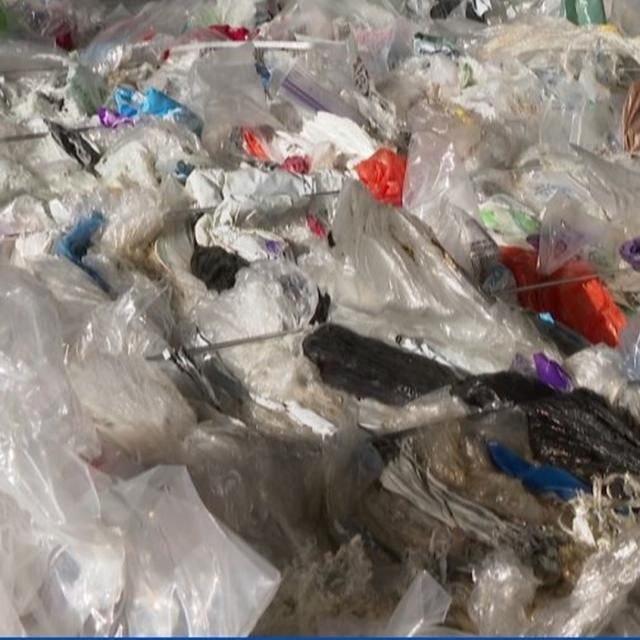Single-layer Plastic: (0, 268, 280, 636), (26, 255, 328, 564), (330, 180, 561, 374), (465, 85, 640, 273), (194, 260, 342, 439), (468, 525, 640, 636), (80, 0, 258, 85), (190, 44, 282, 167), (260, 0, 398, 79)
